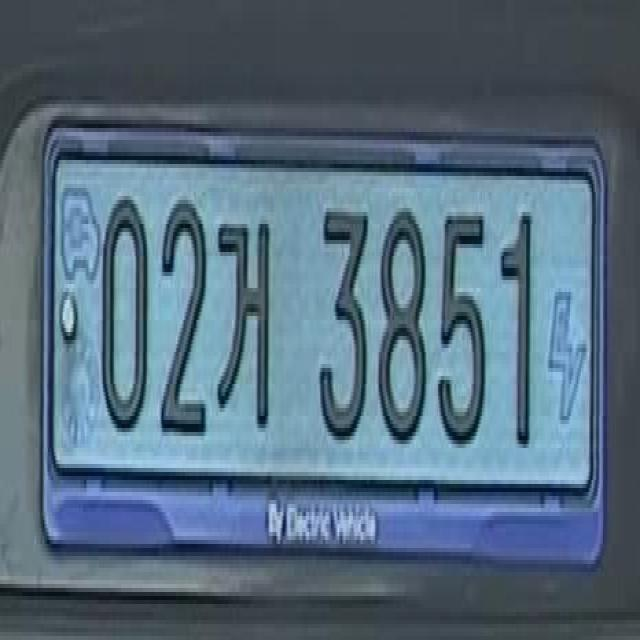EV_plate: (31, 107, 607, 575)
